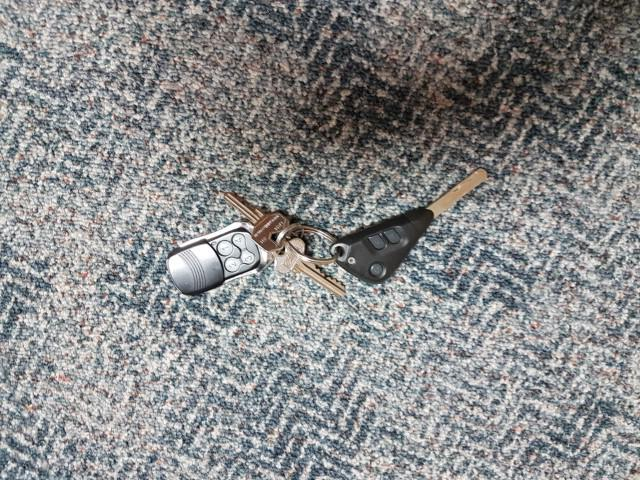key: (327, 163, 493, 288)
